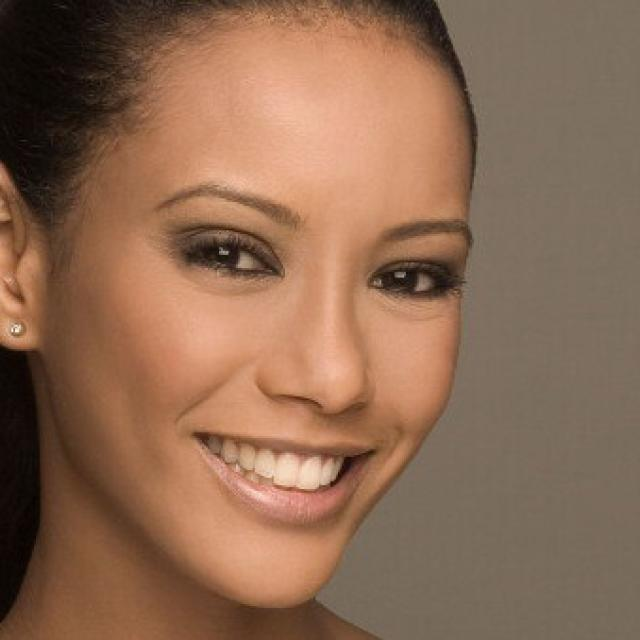Normal: (34, 7, 472, 614)
